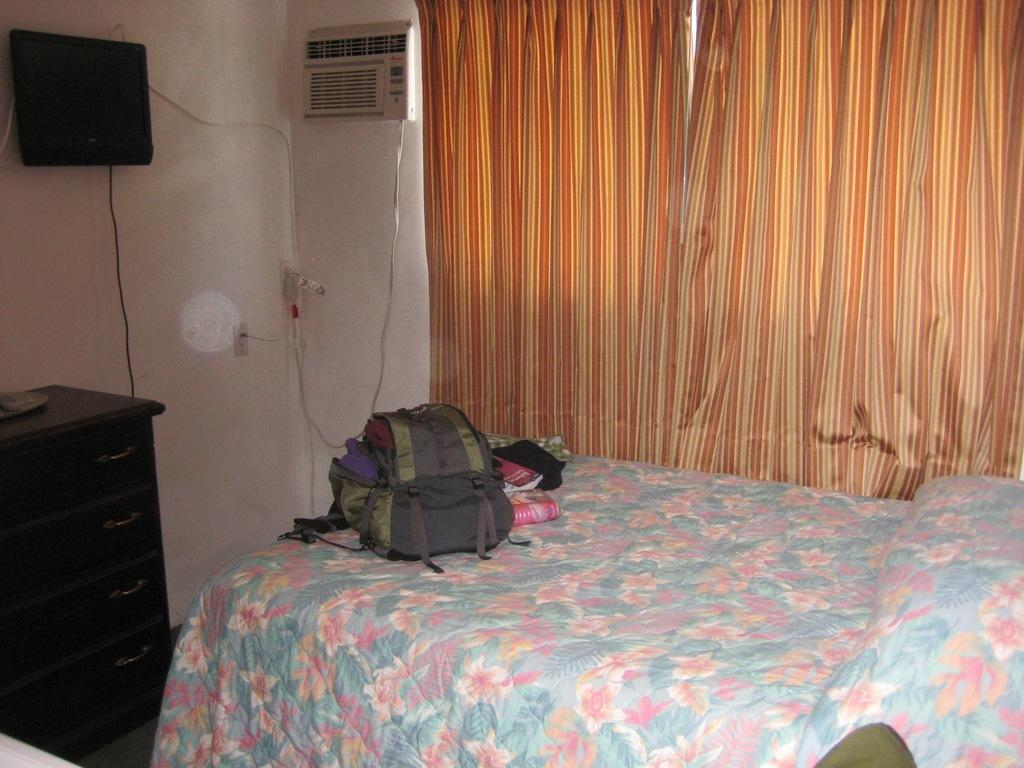Luggage-and-bags: (273, 404, 538, 575)
